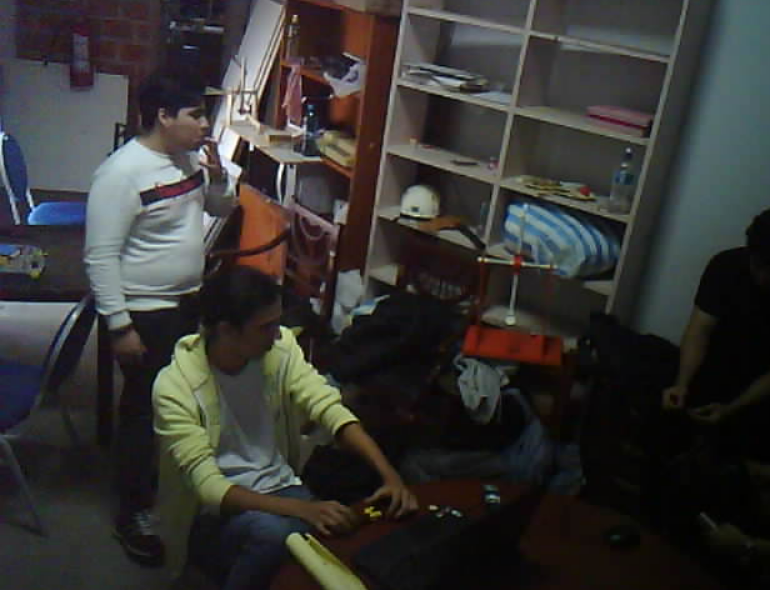person: (144, 285, 477, 590), (62, 45, 228, 575), (648, 139, 770, 521)
